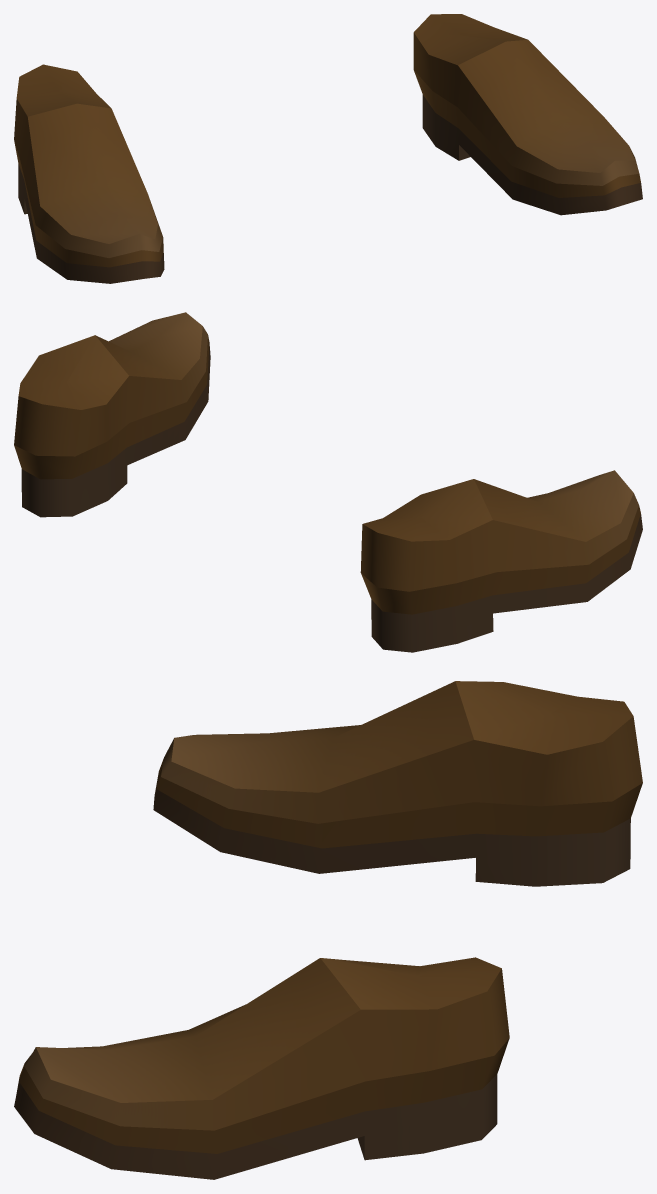
The model's file is _M_Doctor_Shoe.fbx.
3 renders of one model, top to bottom at view 1: azimuth 30°, elevation 25°; view 2: azimuth 150°, elevation 25°; view 3: azimuth 270°, elevation 25°, orthographic. The views are drawn at different scales.
Parts seen in each view (by area): view 1: _M_Doctor_Shoe; view 2: _M_Doctor_Shoe; view 3: _M_Doctor_Shoe.
Boxes of the visible parts, x1,y1,x2,y2 form: _M_Doctor_Shoe: [14, 14, 642, 283]; _M_Doctor_Shoe: [14, 312, 642, 652]; _M_Doctor_Shoe: [14, 681, 642, 1179].
Size of the model in its own units: 51.01 by 10.86 by 35.49.
